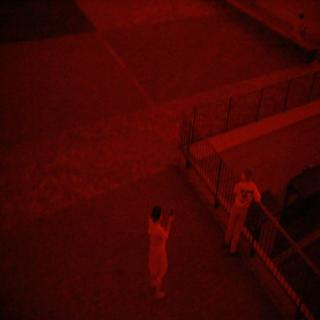person: (136, 197, 183, 299), (222, 165, 267, 255)
